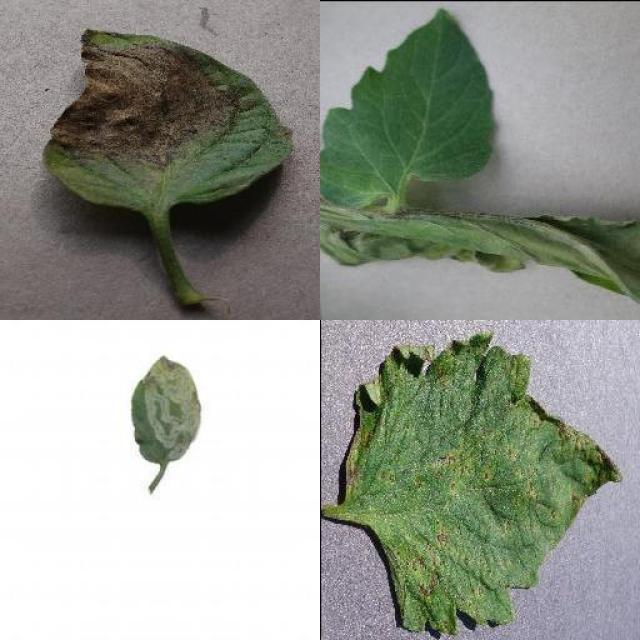Healthy: (320, 8, 496, 210)
Late Blight: (42, 26, 296, 215), (320, 211, 640, 304)
Septoria: (345, 333, 620, 635)
